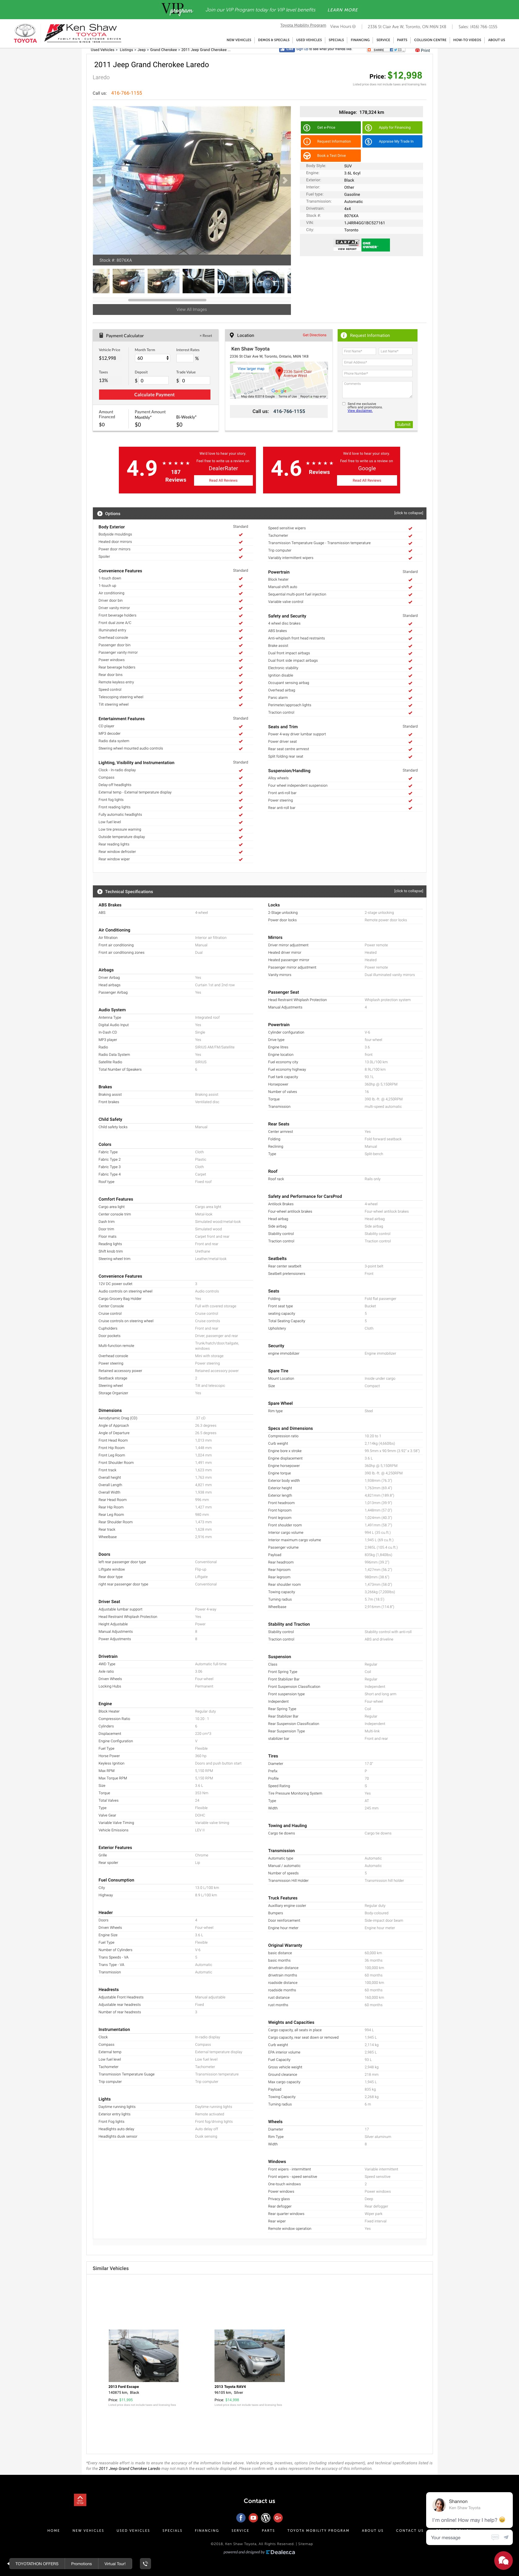car: (282, 177, 289, 184)
